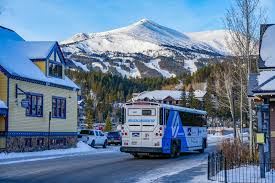bus: (119, 100, 208, 159)
